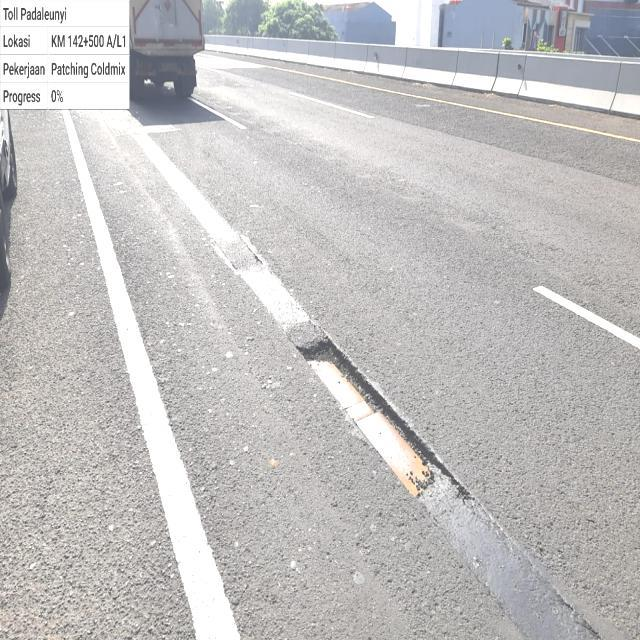Buraco: (292, 334, 483, 511)
